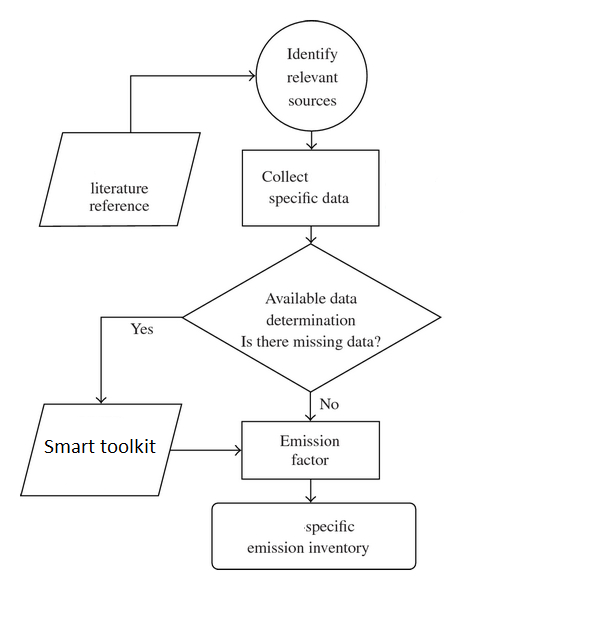arrow: (124, 66, 256, 134), (93, 312, 187, 405), (165, 445, 245, 456), (303, 387, 318, 421), (298, 224, 319, 246), (301, 477, 316, 504), (303, 129, 319, 151)
connection: (253, 17, 373, 133)
data: (36, 126, 204, 230), (14, 400, 183, 498)
decision: (179, 241, 444, 392)
process: (206, 499, 420, 572), (239, 145, 383, 228), (237, 416, 384, 481)
text: (239, 293, 383, 352), (246, 518, 374, 556), (259, 165, 350, 209), (283, 43, 344, 108), (276, 430, 341, 468), (42, 436, 161, 456), (87, 179, 152, 212), (129, 320, 157, 335), (316, 395, 340, 412)
